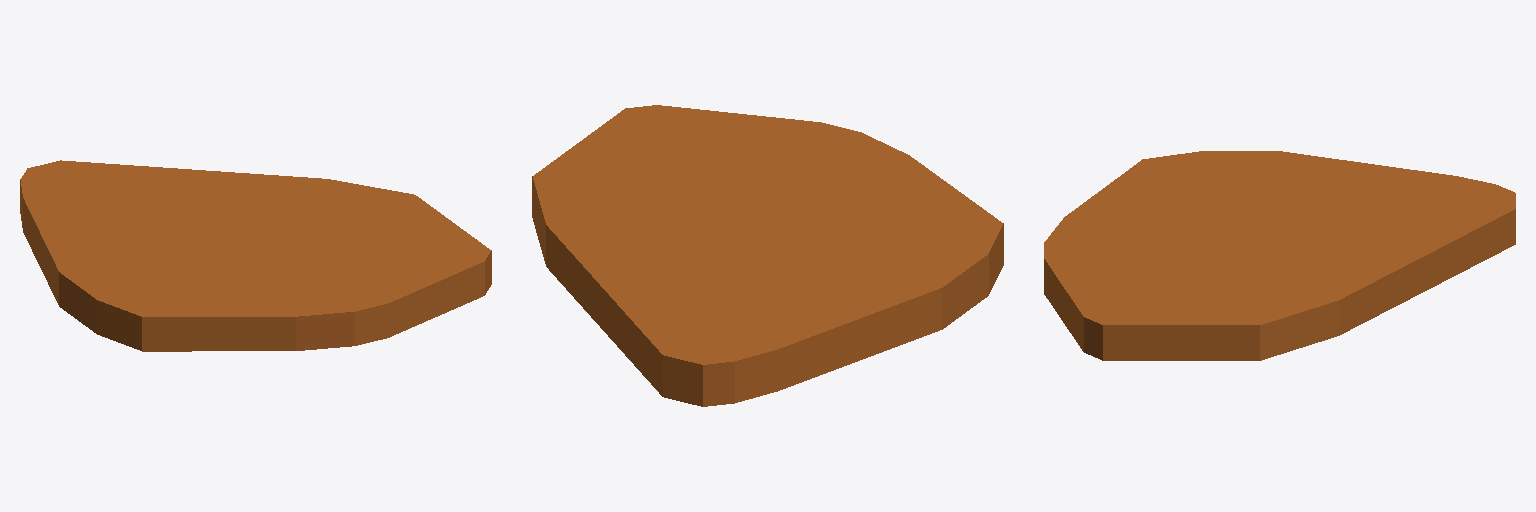
URDF robot description (table):
<?xml version="1.0"?>
<robot name="table">
  <!-- The table top of Book standing on a desk: a static convex slab, top face at z = 0. Load with a fixed base -->
  <mujoco>
    <compiler meshdir="../meshes/" discardvisual="true" balanceinertia="true" fusestatic="false" />
  </mujoco>
  <link name="table">
    <inertial>
      <mass value="20" />
      <inertia ixx="1" ixy="0" ixz="0" iyy="1" iyz="0" izz="1" />
    </inertial>
    <visual>
      <geometry>
        <mesh filename="../meshes/table.obj" />
      </geometry>
      <material name="table_color">
        <color rgba="0.722 0.439 0.204 1" />
      </material>
    </visual>
    <collision>
      <geometry>
        <mesh filename="../meshes/table.obj" />
      </geometry>
    </collision>
    <contact>
      <lateral_friction value="1" />
    </contact>
  </link>
</robot>

--- Facts derived from the render (not from the file) ---
Views: 3 orthographic renders of the robot side by side, from view 1: azimuth 30°, elevation 25°; view 2: azimuth 150°, elevation 25°; view 3: azimuth 270°, elevation 25°.
Robot: table — 1 links, 0 joints (none); root link table; default pose: all joints at 0.
Links seen in each view (by area): view 1: table; view 2: table; view 3: table.
Link boxes in pixels (x1,y1,x2,y2): table: [20, 160, 491, 351]; table: [532, 105, 1003, 406]; table: [1044, 151, 1515, 360].
Size in the robot's own frame: 0.42 by 0.48 by 0.04 metres.
Meshes: 1 distinct files referenced, 1 mesh visuals loaded (1 OBJ).
